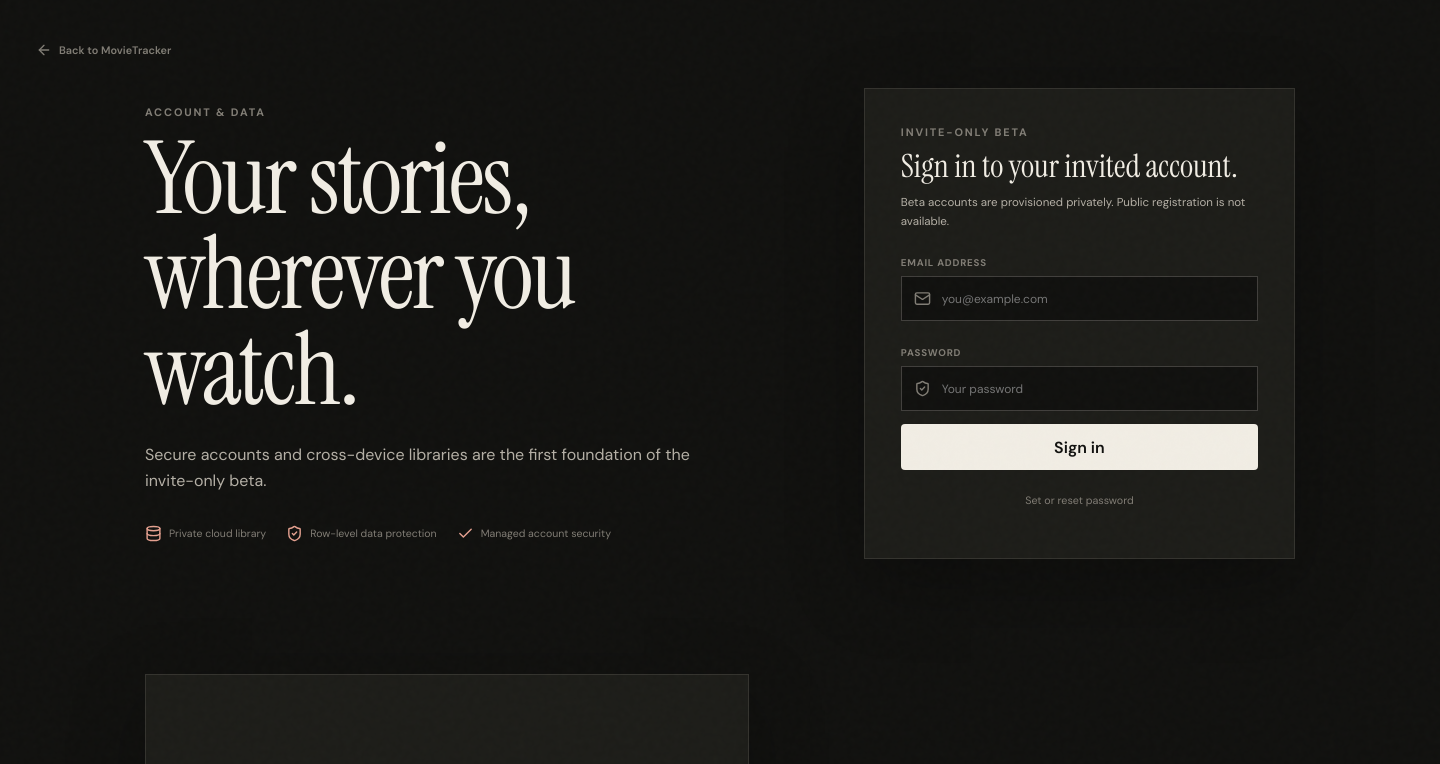
Scenario: account password setup › requests a secure password link for a provisioned account
Click the button "Set or reset password" at [1079, 500], box [901,478,1258,522]
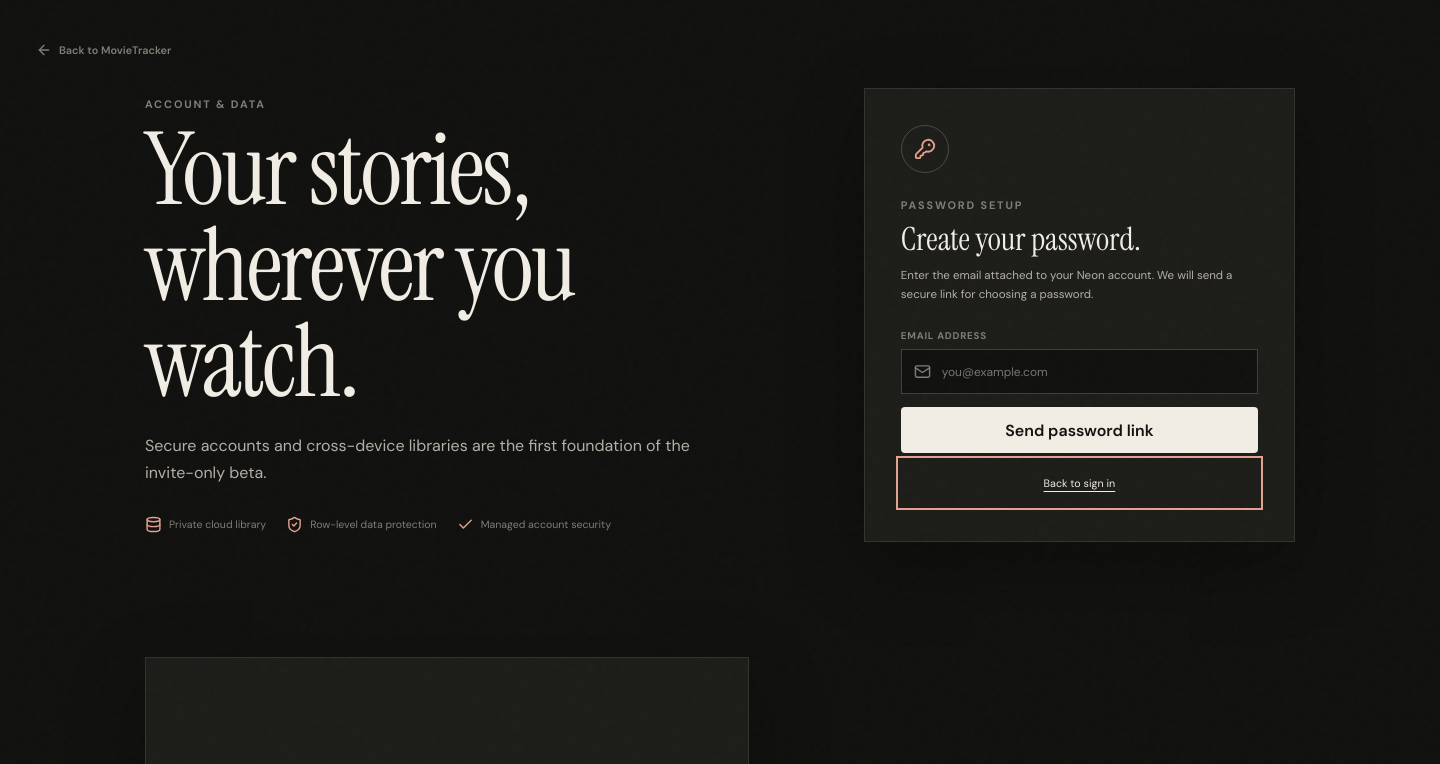
Type "viewer@example.com" into the field labelled "Email address" at [1092, 372], box [940,363,1245,381]
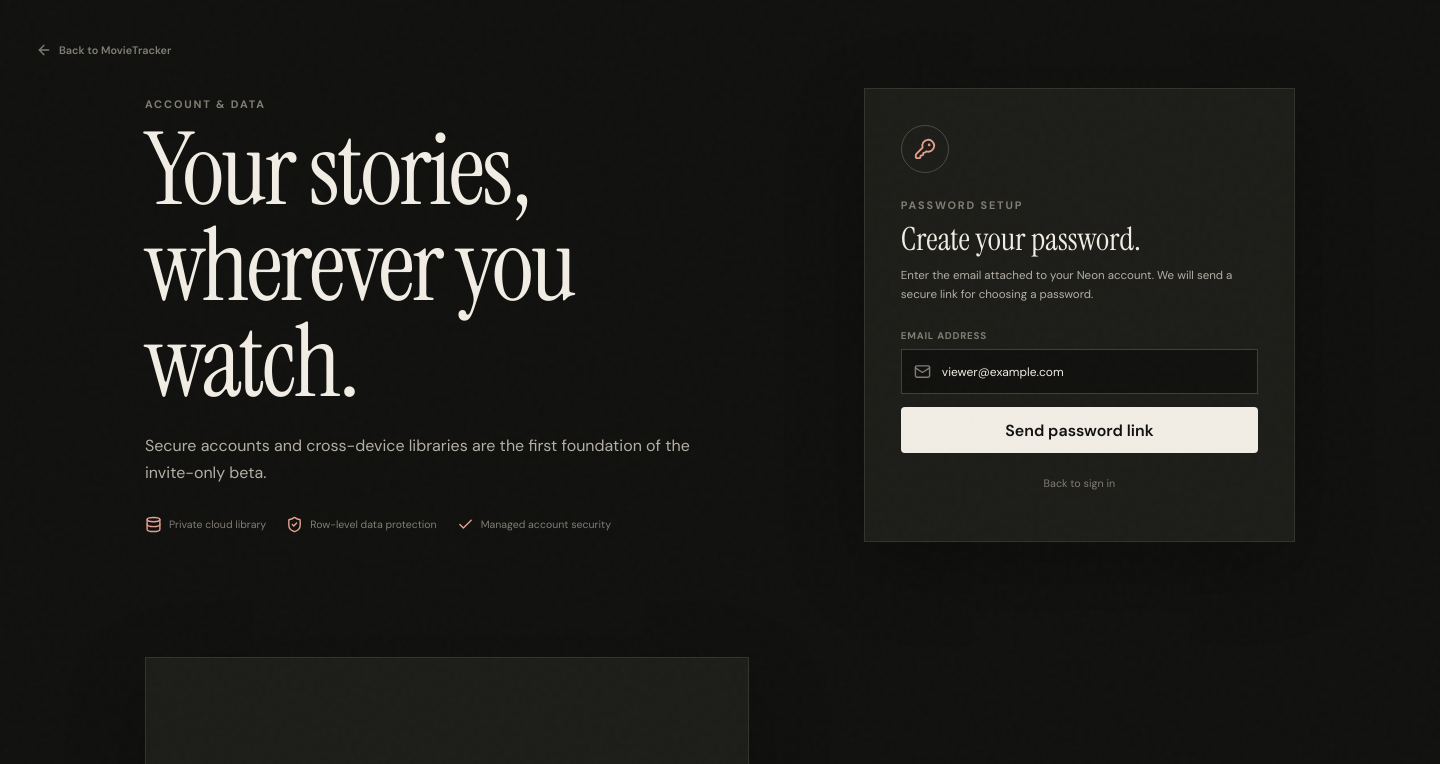
Click the button "Send password link" at [1079, 430], box [901,407,1258,453]
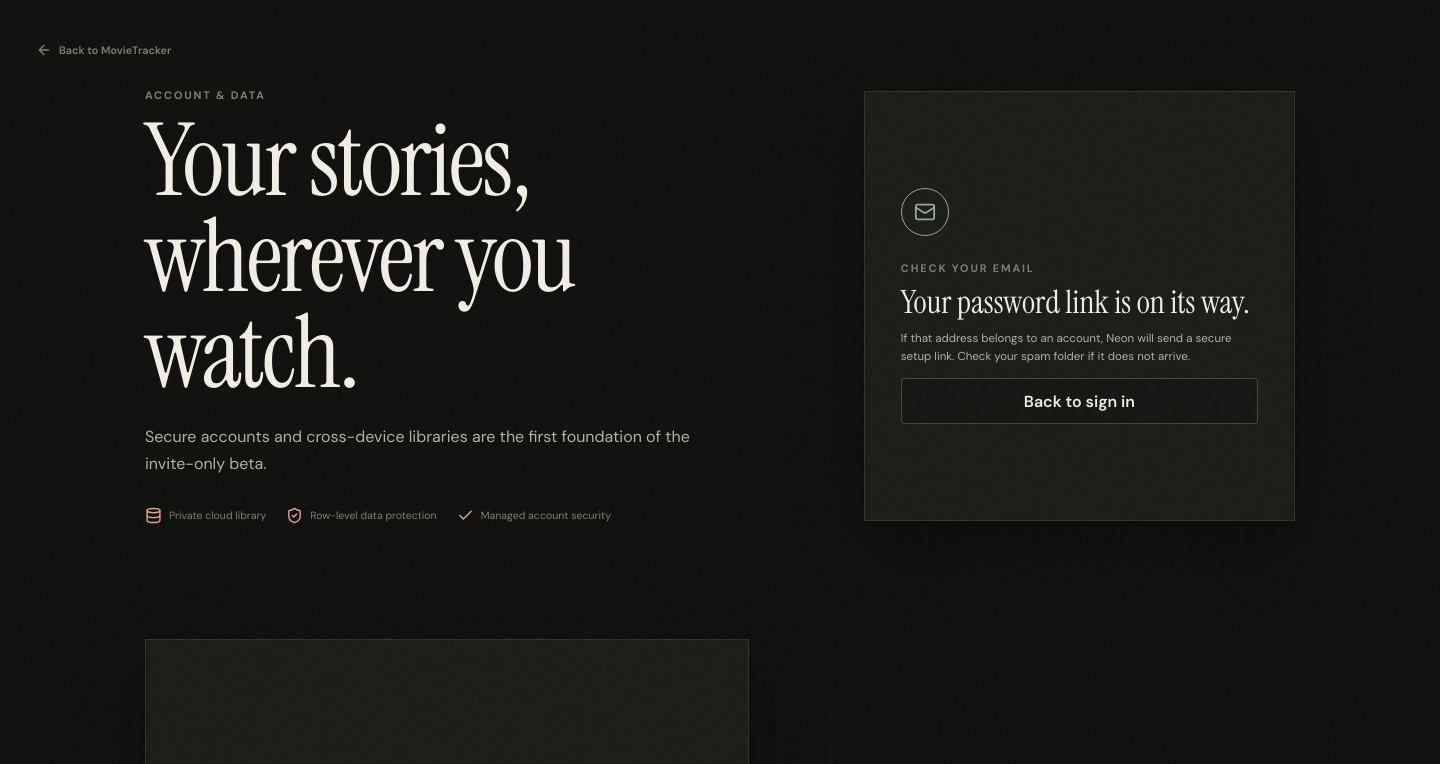
Result: the heading "Your password link is on its way." is shown at [901,286,1258,318]
